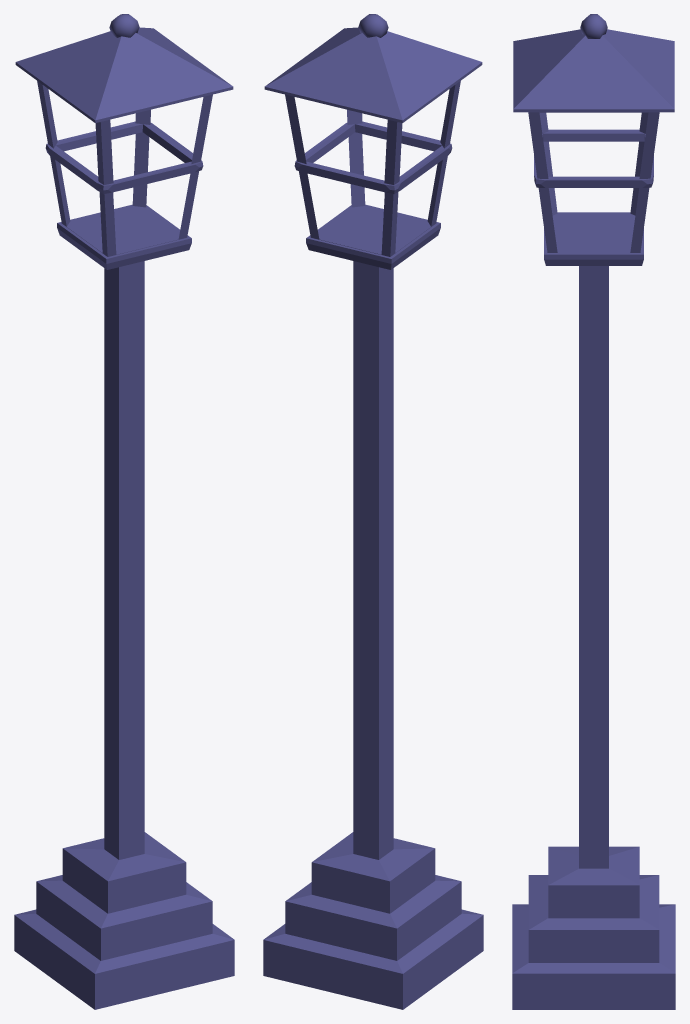
File: street-lamp.obj
3 views of the same model, side by side, from view 1: azimuth 30°, elevation 25°; view 2: azimuth 150°, elevation 25°; view 3: azimuth 270°, elevation 25° (orthographic).
Parts seen in each view (by area): view 1: Cube; view 2: Cube; view 3: Cube.
Boxes of the visible parts, bbox=[...] form: Cube: bbox=[14, 14, 234, 1009]; Cube: bbox=[263, 14, 483, 1009]; Cube: bbox=[512, 14, 675, 1009].
Bounding box in the file's own units: 0.4062 × 2.63 × 0.4062.
1 material, 1 textured.
